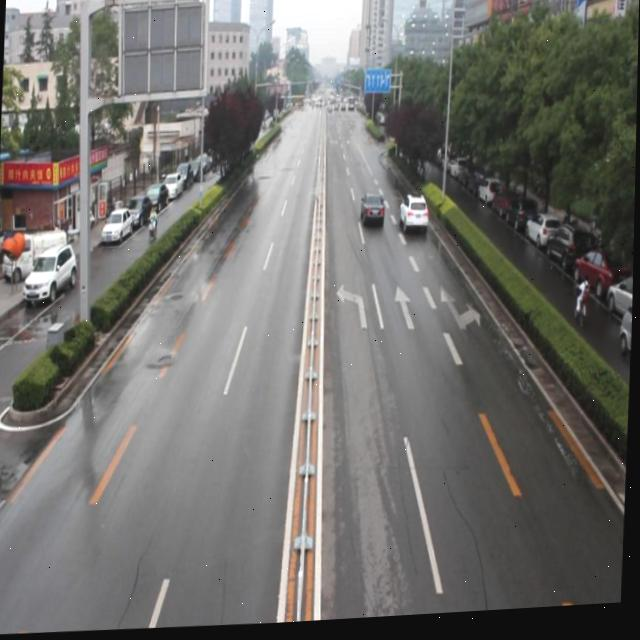car: (398, 195, 429, 237), (360, 194, 385, 228)
